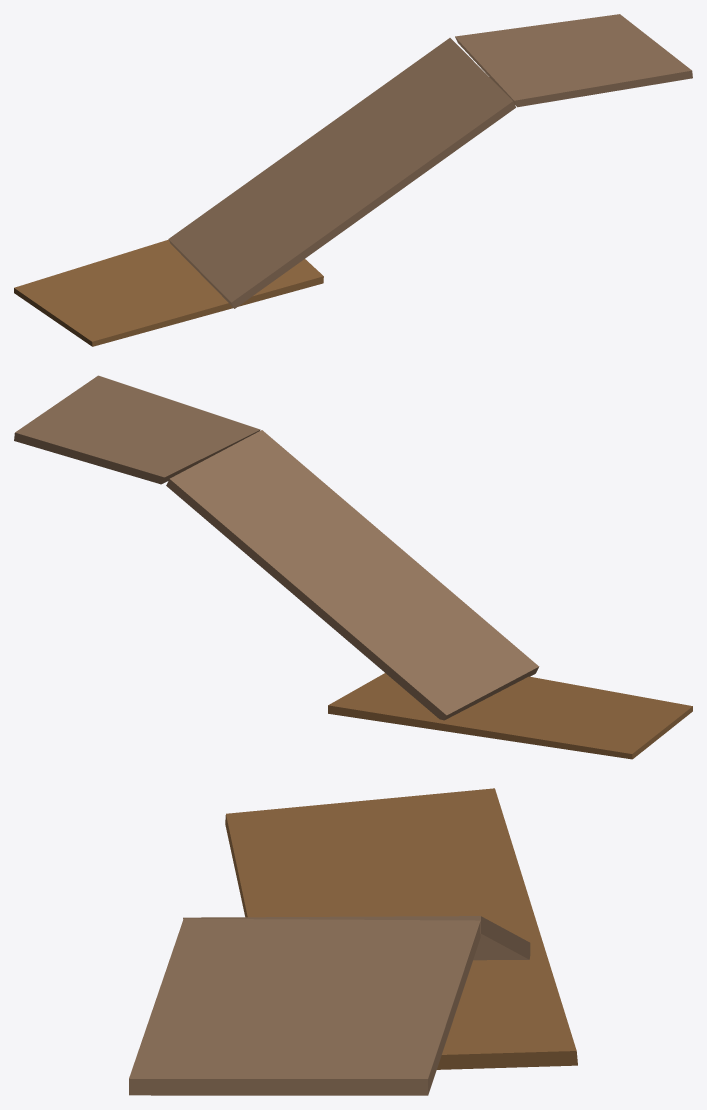
File: Planches.fbx
3 views of the same model, one above another, from view 1: azimuth 30°, elevation 25°; view 2: azimuth 150°, elevation 25°; view 3: azimuth 270°, elevation 25° (orthographic). The views are drawn at different scales.
Visible parts, largest first — view 1: Cube.005; view 2: Cube.005; view 3: Cube.005.
Part boxes in pixels (x1=…): Cube.005: x1=14, y1=14, x2=692, y2=346; Cube.005: x1=14, y1=375, x2=692, y2=759; Cube.005: x1=129, y1=788, x2=577, y2=1095.
Bounding box in the file's own units: 652 × 175 × 215.
